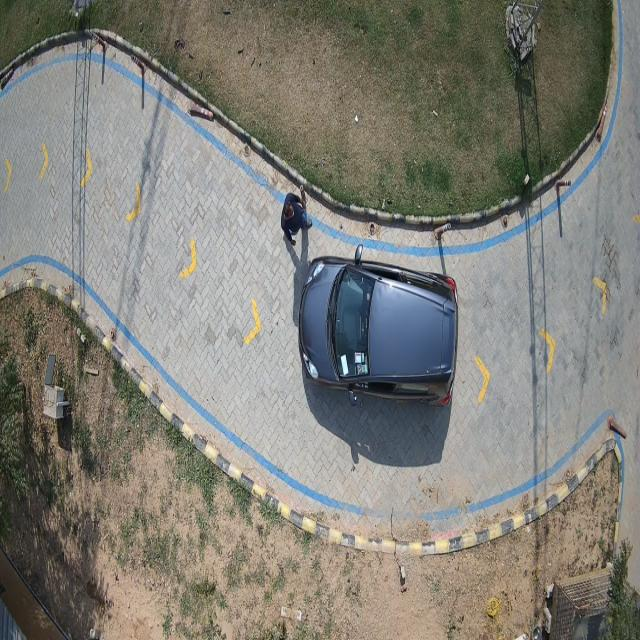car: (299, 249, 458, 404)
